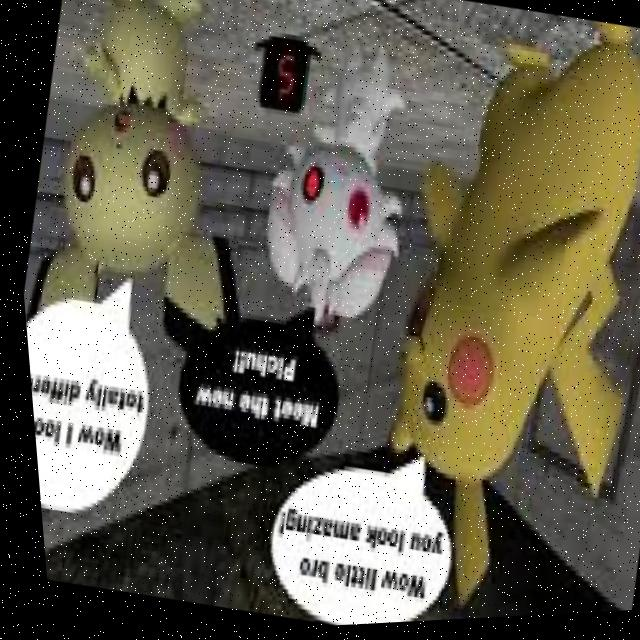pichu: (0, 0, 299, 398)
